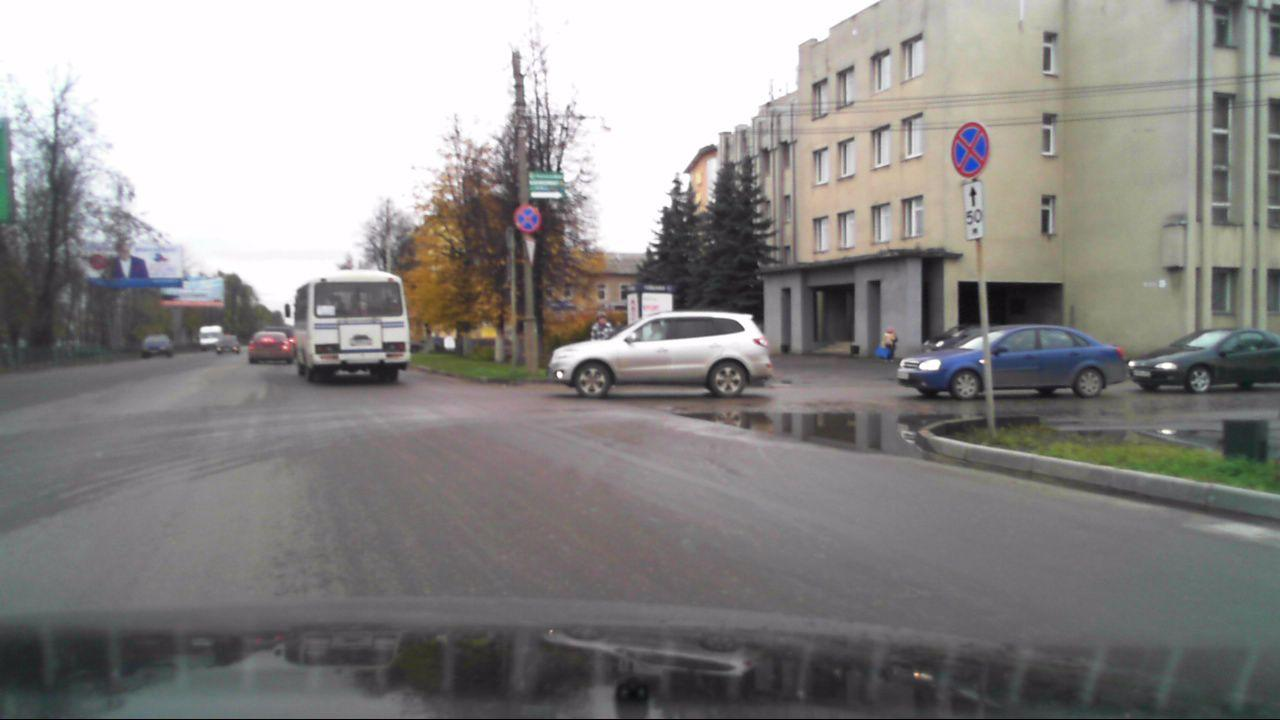2_4: (523, 238, 542, 262)
3_27: (949, 123, 990, 178), (515, 207, 542, 233)
8_2_2: (963, 182, 986, 240)
